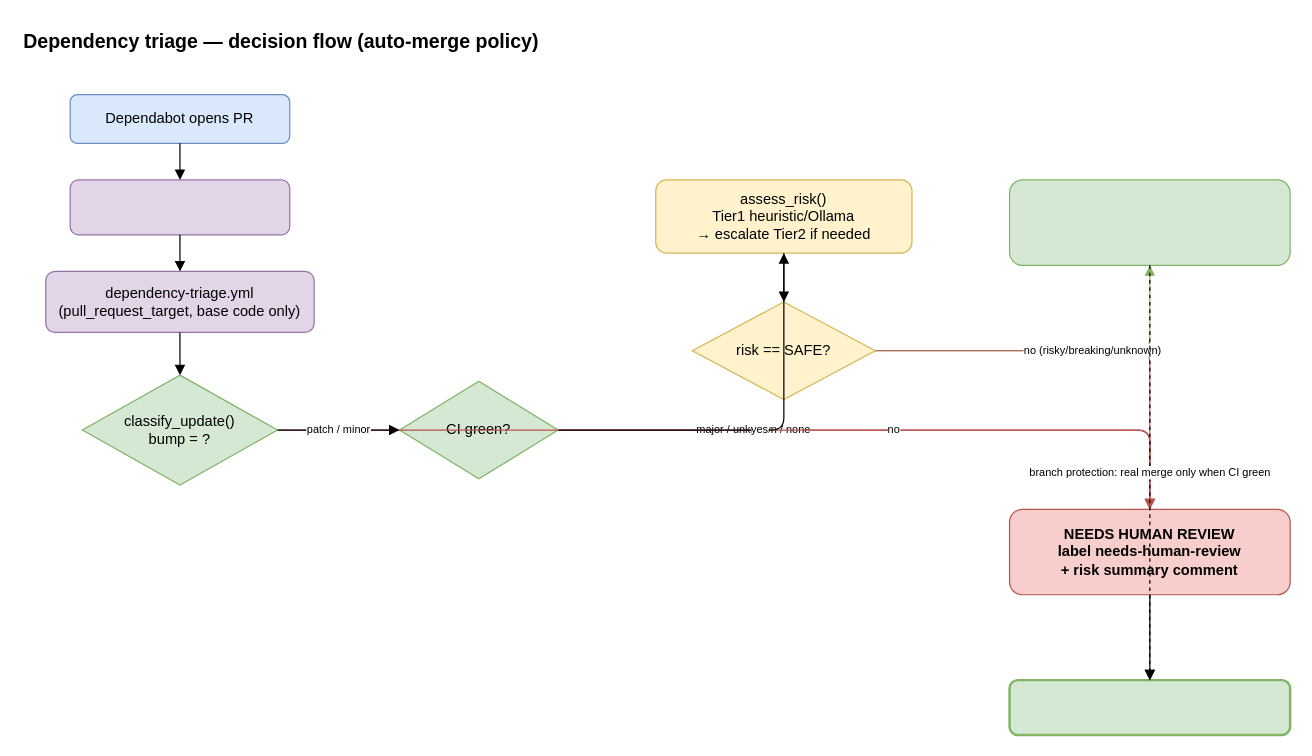
This 1312x756 diagram has some shape labels left out. Here are the shapes that lost their labels. From the top down, the box of each, then its label:
(69, 179, 290, 235): ci.yml runs (unit + integration)
(1008, 179, 1290, 265): AUTO-MERGE gh pr merge --auto --squash + label auto-merge-candidate
(1008, 678, 1291, 736): GitHub Project (tracked)
